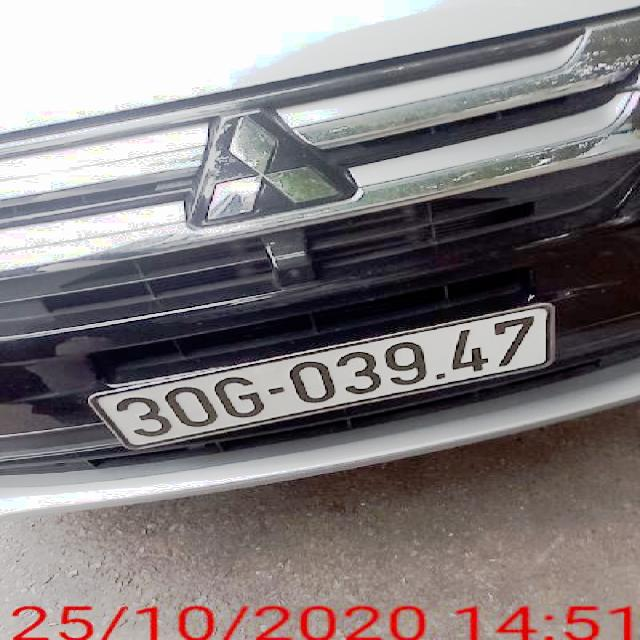license_plate: (87, 306, 552, 449)
